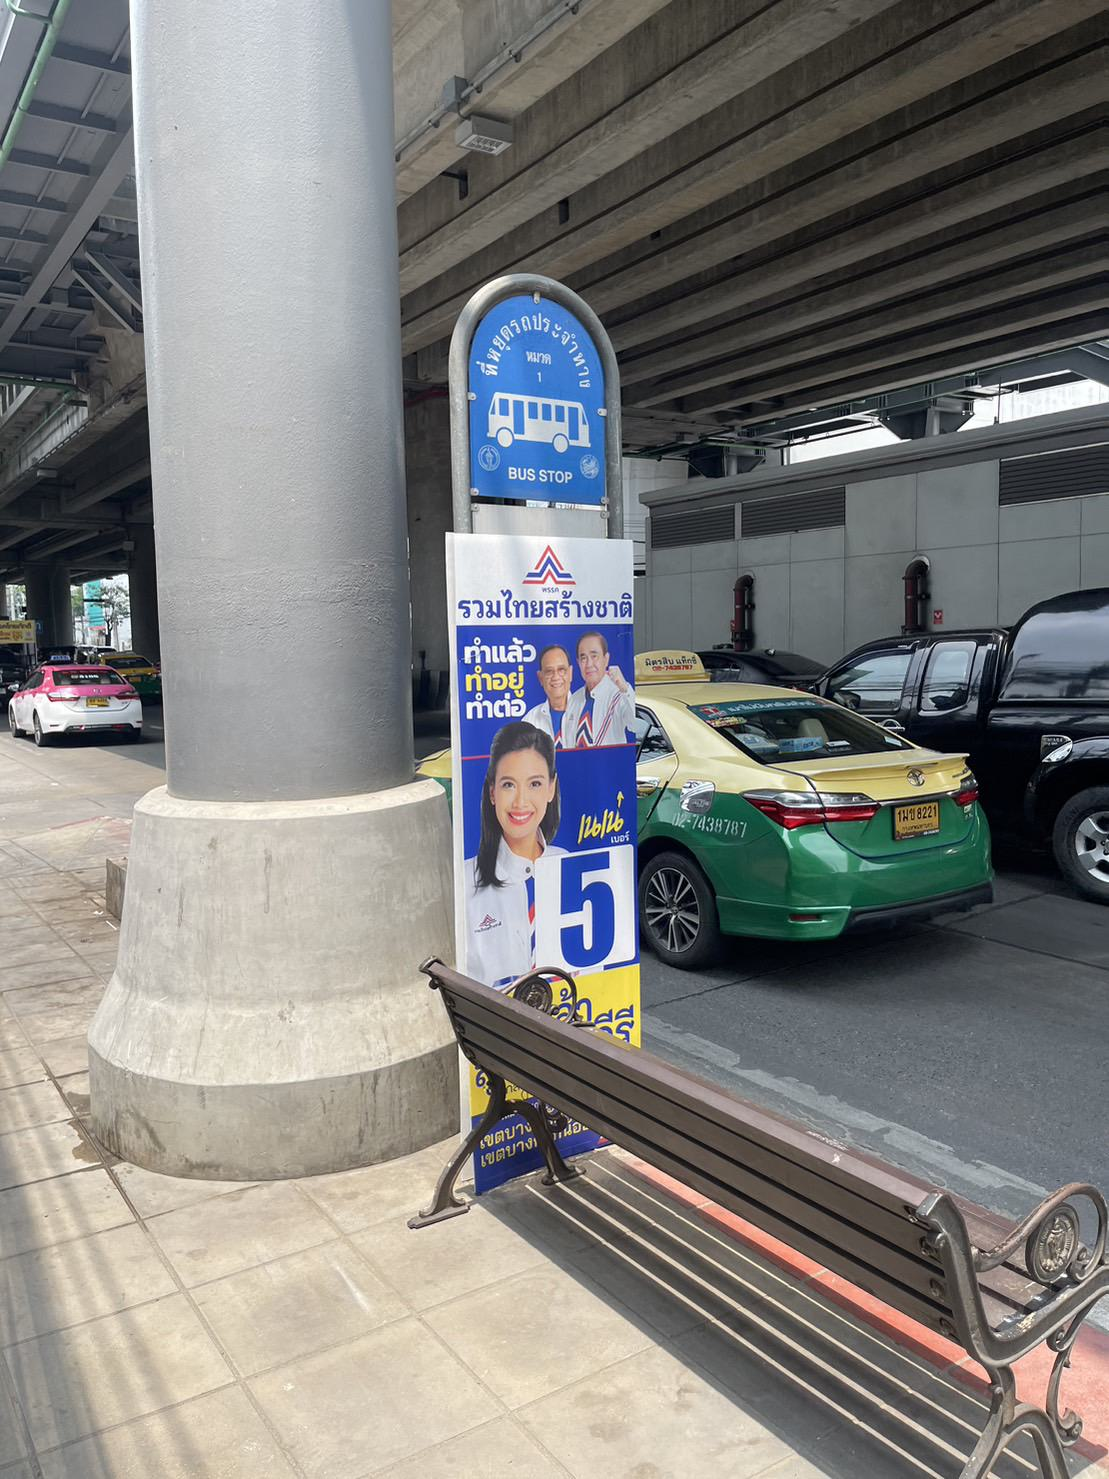Banner: (447, 529, 647, 1166)
